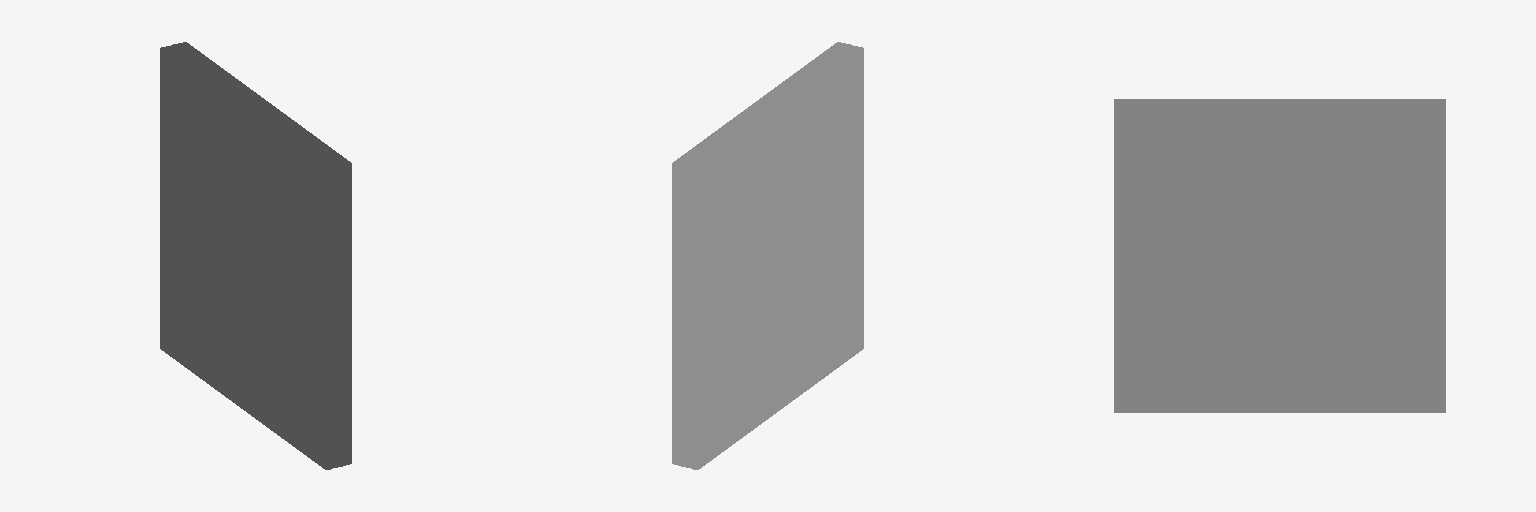
Rendered from ward_chiping_table_item.obj.
3 renders of one model, left to right at view 1: azimuth 30°, elevation 25°; view 2: azimuth 150°, elevation 25°; view 3: azimuth 270°, elevation 25°, orthographic.
Parts seen in each view (by area): view 1: Plane.001; view 2: Plane.001; view 3: Plane.001.
Part boxes in pixels (bbox=[...]): Plane.001: bbox=[160, 42, 351, 469]; Plane.001: bbox=[672, 42, 863, 469]; Plane.001: bbox=[1114, 99, 1445, 412].
Bounding box in the file's own units: 0.0441 × 0.4946 × 0.4946.